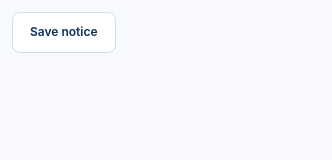
Test: Real member tools UI › saving sends no client identity and resets status when the account changes
Later steps or results of the test are not shown.
Step 1. Click the button "Save notice" → x=64, y=32, box left=12, top=12, right=116, bottom=53
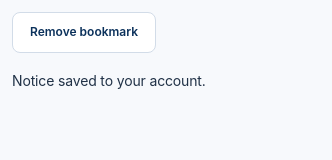
Result: the text "Notice saved to your account." is shown at left=12, top=72, right=206, bottom=89
